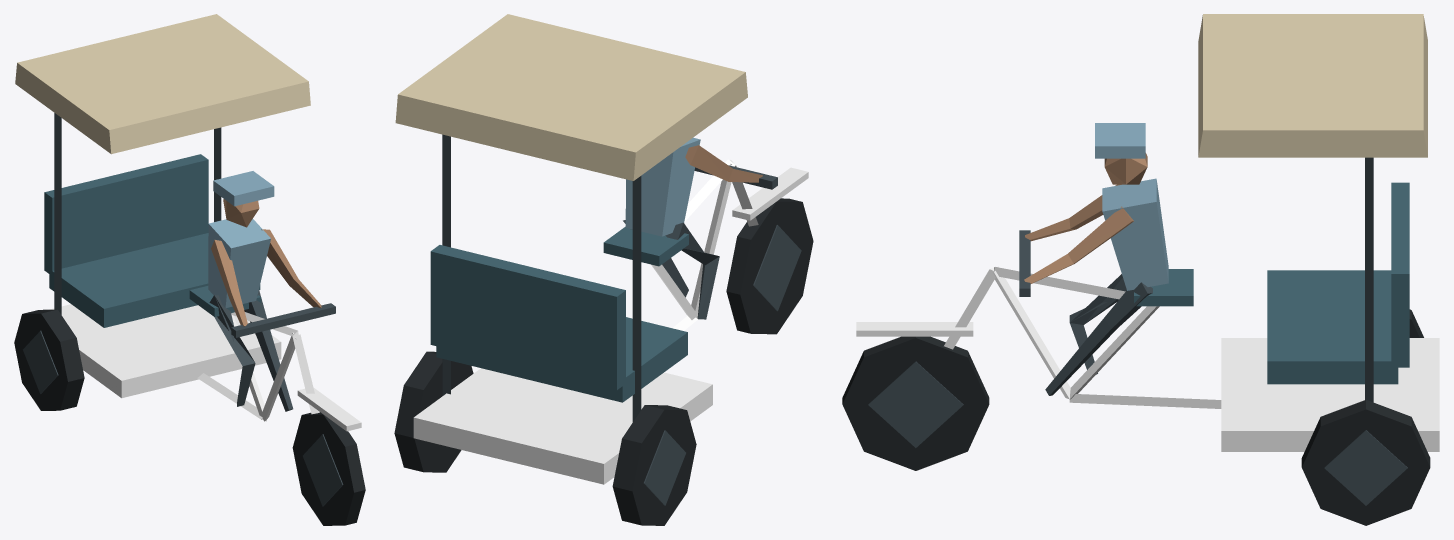
The model's file is pedicab.glb.
3 renders of one model, left to right at view 1: azimuth 30°, elevation 25°; view 2: azimuth 150°, elevation 25°; view 3: azimuth 270°, elevation 25°, orthographic. The views are drawn at different scales.
Parts seen in each view (by area): view 1: vehicle_body; view 2: vehicle_body; view 3: vehicle_body.
Boxes of the visible parts, left/top/right/bottom form: vehicle_body: left=14, top=14, right=365, bottom=525; vehicle_body: left=394, top=14, right=813, bottom=525; vehicle_body: left=842, top=14, right=1439, bottom=525.
Bounding box in the file's own units: 1.21 × 1.9 × 2.6.
